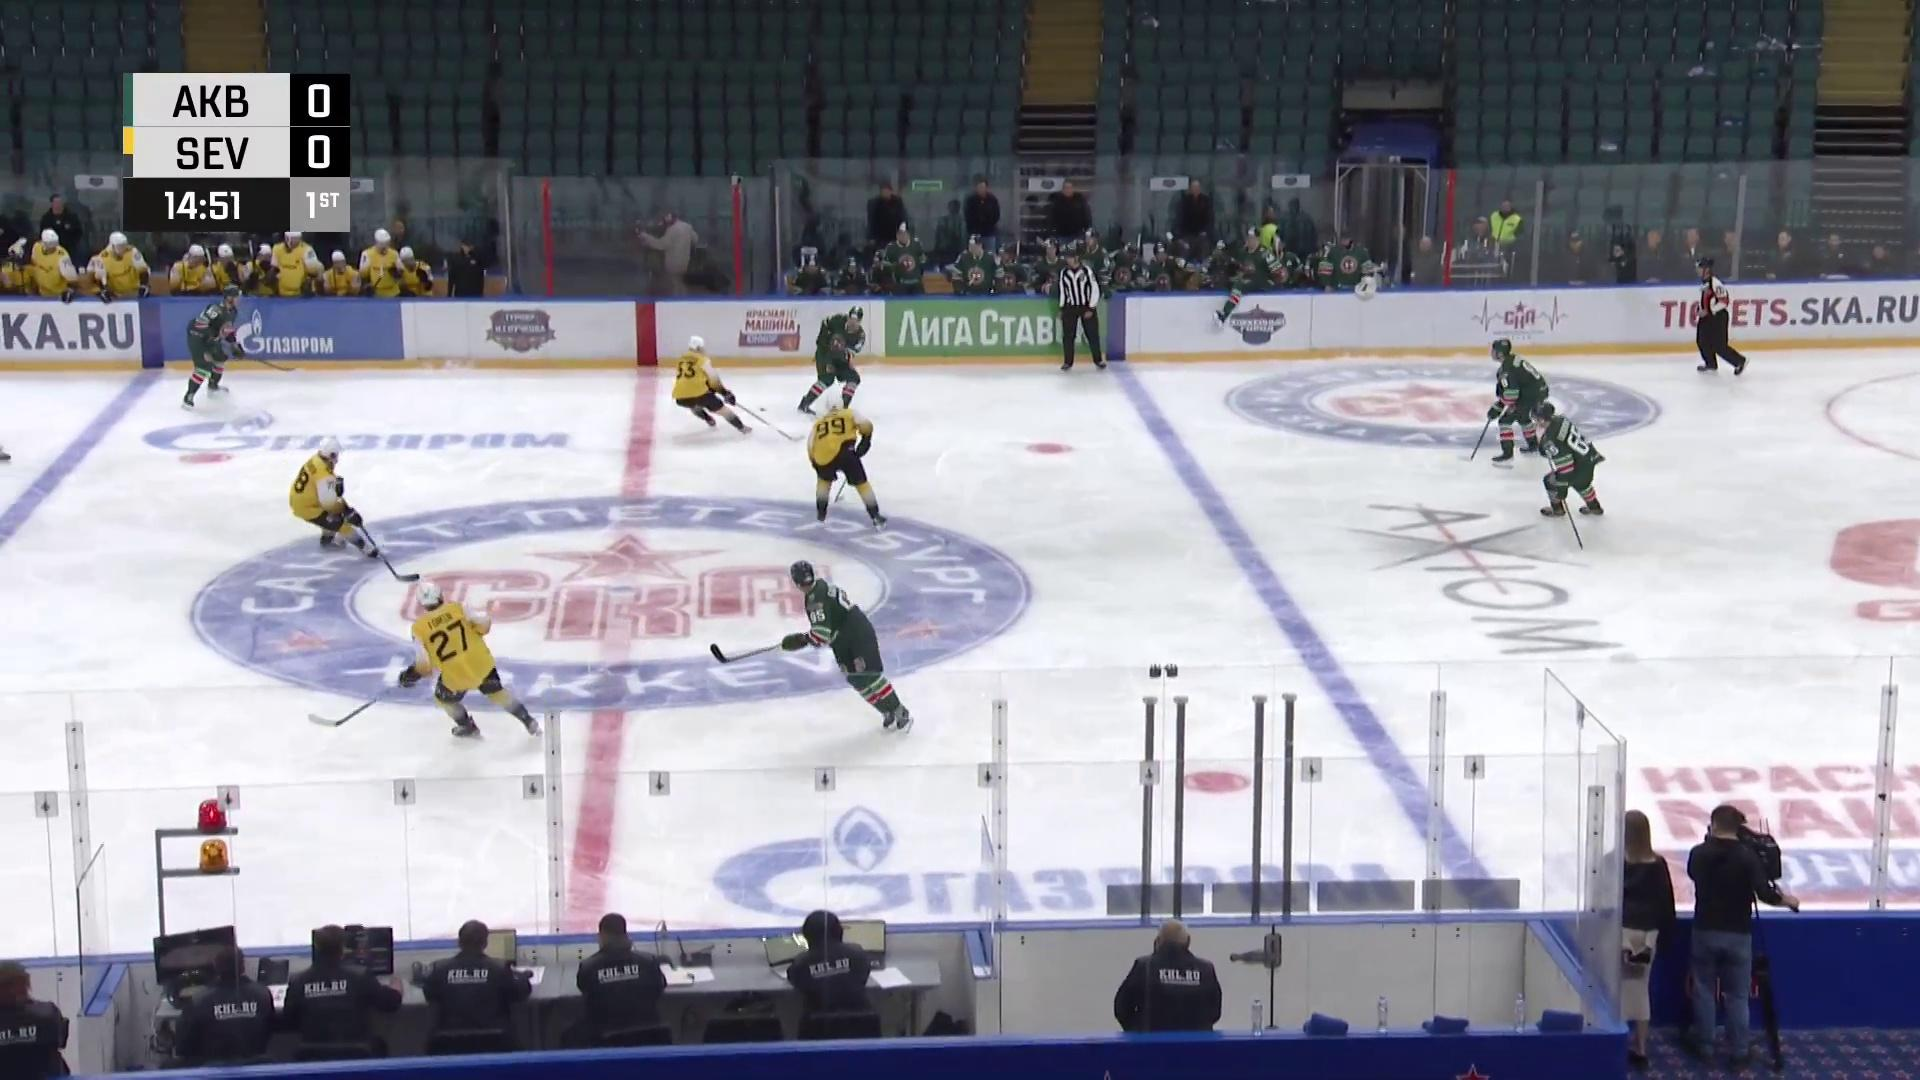ball: (760, 407, 767, 413)
